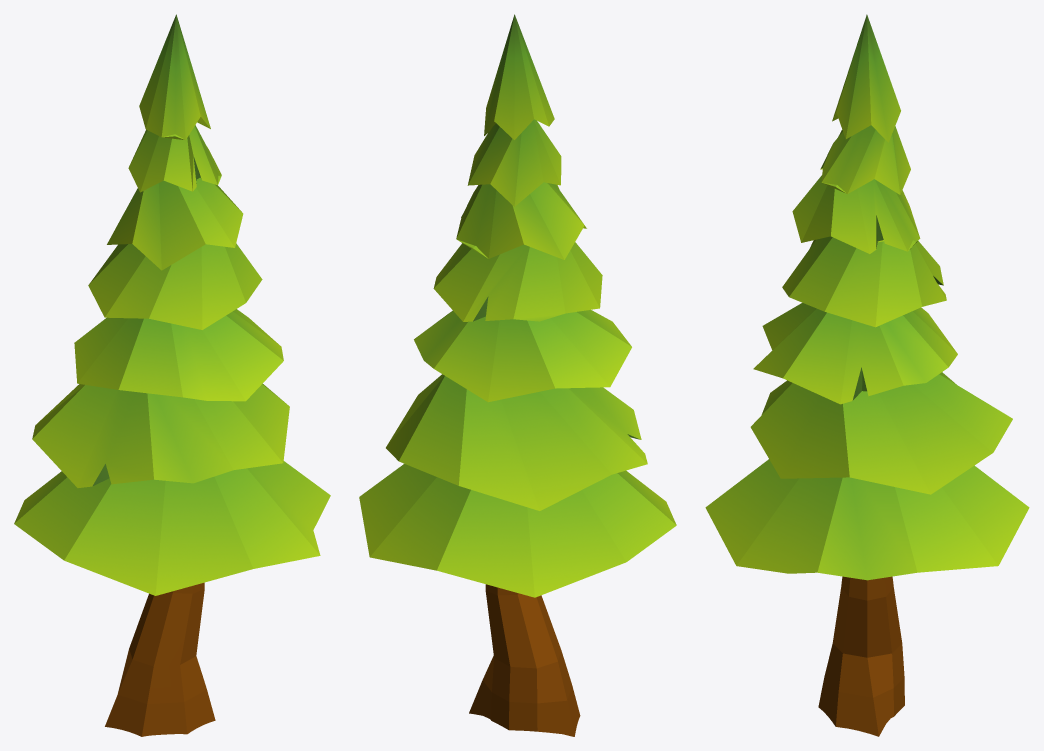
The model's file is tree.obj.
3 renders of one model, left to right at view 1: azimuth 30°, elevation 25°; view 2: azimuth 150°, elevation 25°; view 3: azimuth 270°, elevation 25°, orthographic.
Visible parts, largest first — view 1: Cylinder_Cylinder.001_Material.002, Cylinder_Cylinder.001_Material.001; view 2: Cylinder_Cylinder.001_Material.002, Cylinder_Cylinder.001_Material.001; view 3: Cylinder_Cylinder.001_Material.002, Cylinder_Cylinder.001_Material.001.
Boxes of the visible parts, x1,y1,x2,y2 form: Cylinder_Cylinder.001_Material.002: [14, 14, 330, 595]; Cylinder_Cylinder.001_Material.001: [105, 582, 215, 736]; Cylinder_Cylinder.001_Material.002: [359, 14, 676, 597]; Cylinder_Cylinder.001_Material.001: [469, 584, 580, 736]; Cylinder_Cylinder.001_Material.002: [705, 14, 1029, 580]; Cylinder_Cylinder.001_Material.001: [818, 576, 904, 736].
Size of the model in its own units: 1.36 by 3.42 by 1.43.
2 materials, 2 textured.
